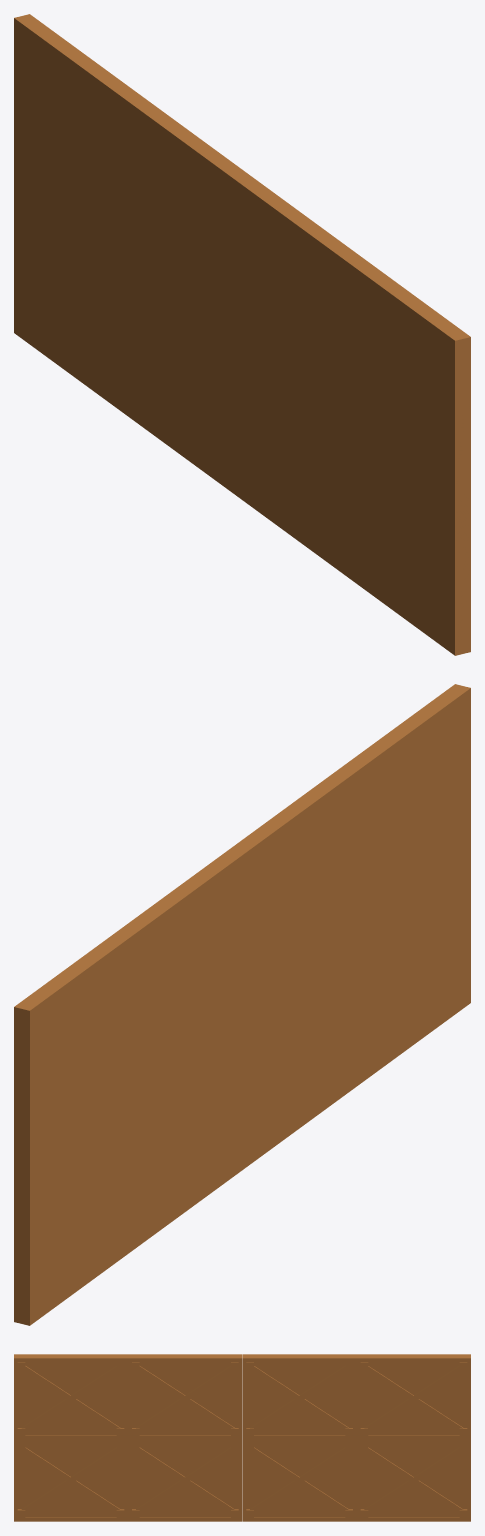
Rendered from 速食店.fbx_back_wall_002.fbx.
The picture shows the model from 3 angles, top to bottom: view 1: azimuth 30°, elevation 25°; view 2: azimuth 150°, elevation 25°; view 3: azimuth 270°, elevation 25°; orthographic projection. The views are drawn at different scales.
Parts seen in each view (by area): view 1: back wall.002, back wall.003; view 2: back wall.003, back wall.002; view 3: back wall.002, back wall.003.
Part boxes in pixels (<box>): back wall.002: <box>234,175,470,655</box>; back wall.003: <box>14,14,249,493</box>; back wall.003: <box>14,845,250,1325</box>; back wall.002: <box>235,684,470,1163</box>; back wall.002: <box>14,1354,242,1521</box>; back wall.003: <box>242,1354,470,1521</box>.
Bounding box in the file's own units: 32 × 570 × 1447.
